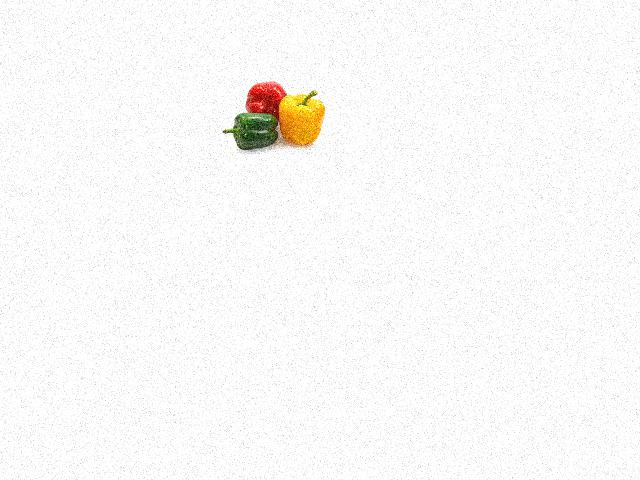bell_pepper: (227, 107, 287, 150)
